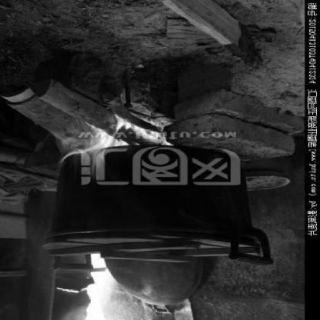Fire: (55, 107, 179, 169)
